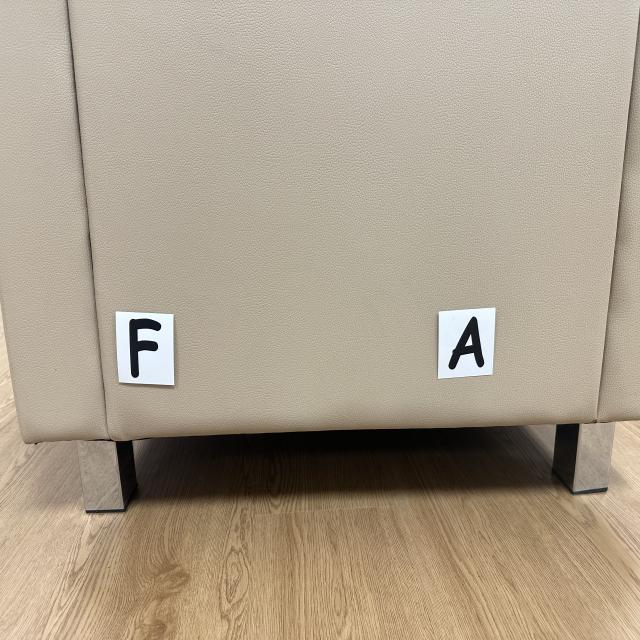A: (449, 317, 484, 370)
F: (129, 318, 161, 378)
